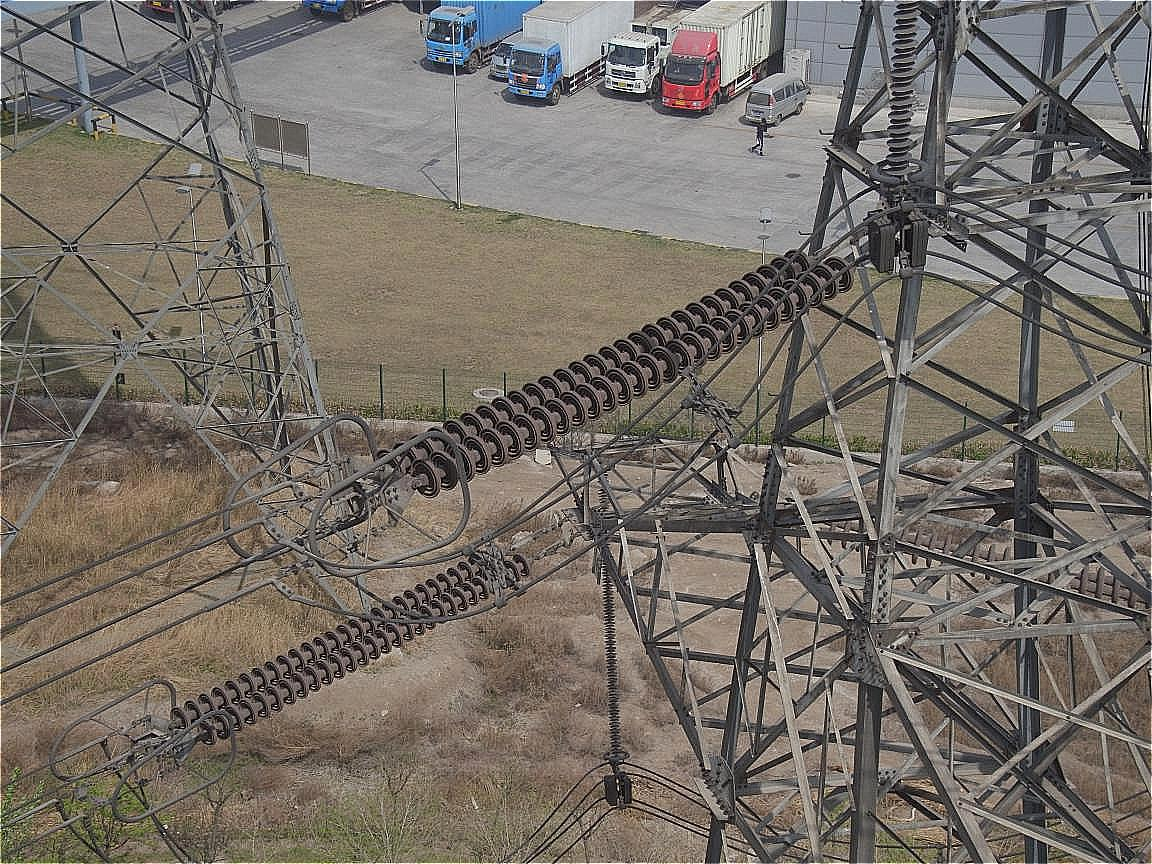insultor1: (360, 240, 870, 505), (153, 542, 540, 756)
